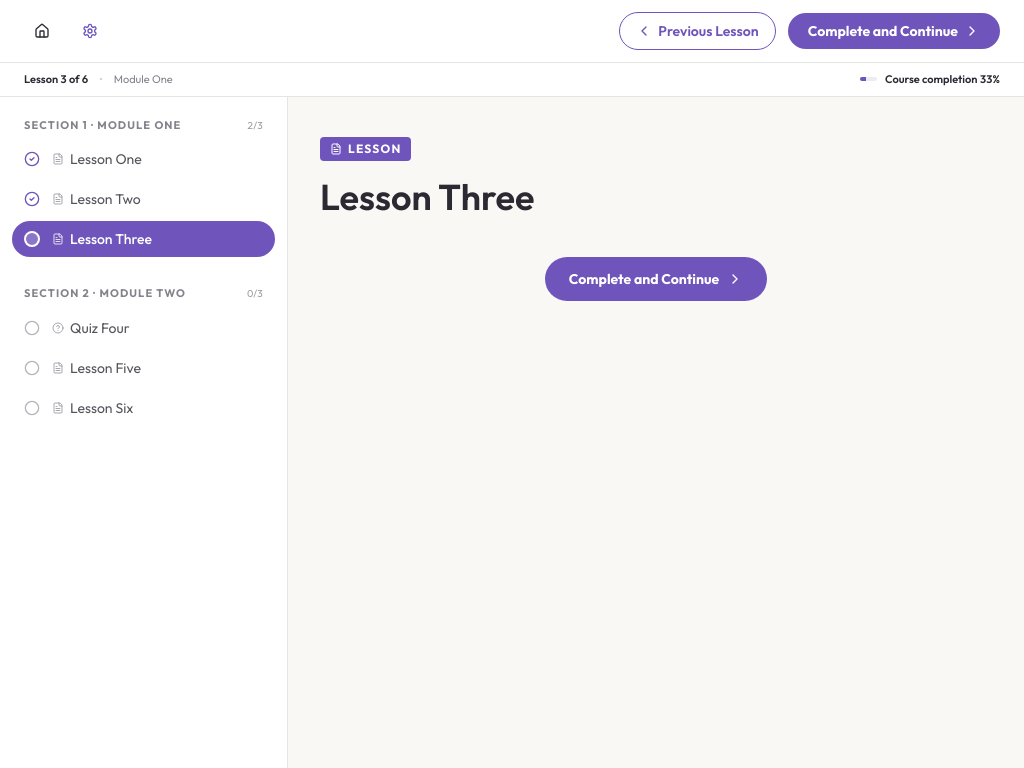
CourseLearn with the real read model (T-10) › a save is shown only after readback (3/6, 50%), and a remount reads the stored 50% back
Later steps or results of the test are not shown.
Expected: the element with test id "learn-completion" reads "Course completion 33%", [885,72,1000,86]
Click the 1st button "Complete and Continue" at (894, 31), box [788,13,1000,49]
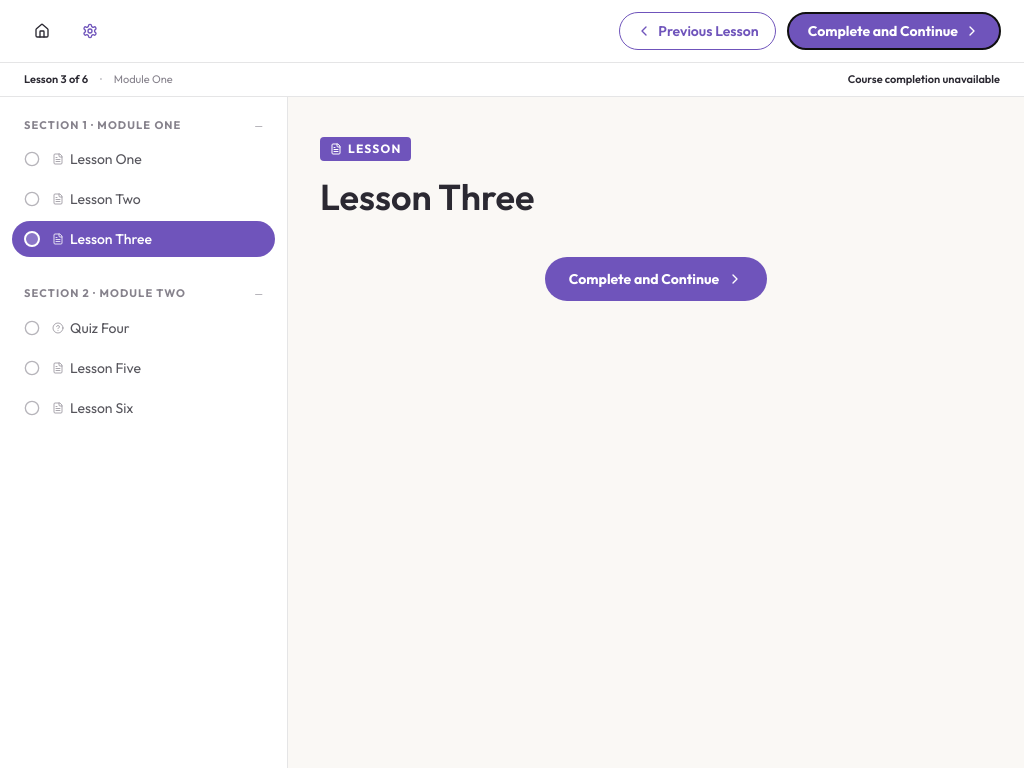
Expected: the element with test id "learn-completion" reads "Course completion unavailable", [848,72,1000,86]
